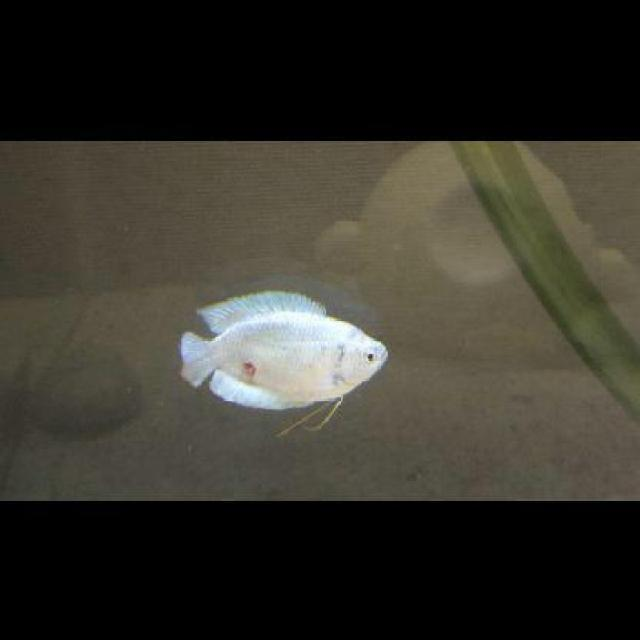Gourami: (178, 288, 392, 417)
